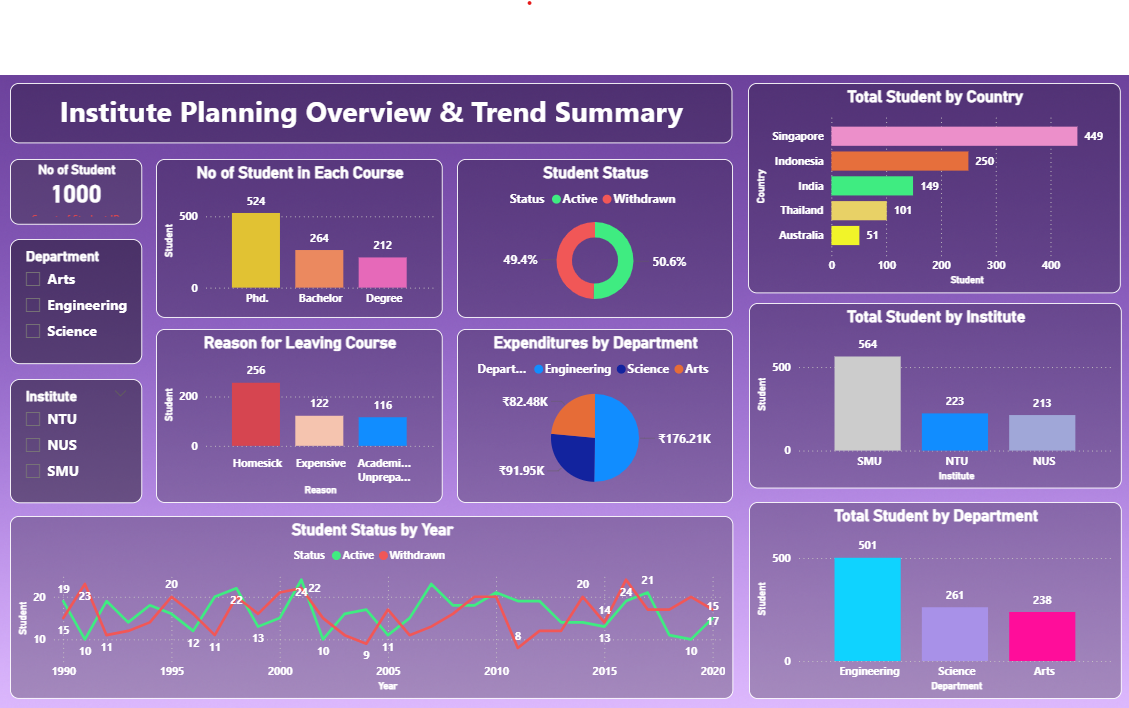

The page's visual inventory and layout, read from the dashboard file:
{"tool":"powerbi","page":{"name":"Page 1","canvas":[1280,720],"ordinal":0},"visuals":[{"type":"barChart","title":"Total Student by Country","fields":{"Category":["data.Country"],"Y":["CountNonNull(data.Student ID)"]},"box":[846.3,12.1,420.1,236.6],"z":0},{"type":"columnChart","title":"Total Student by Institute","fields":{"Category":["data.Institute"],"Y":["CountNonNull(data.Student ID)"]},"box":[846.9,260.8,420.2,209.3],"z":1},{"type":"columnChart","title":"Total Student by Department","fields":{"Category":["data.Department"],"Y":["CountNonNull(data.Student ID)"]},"box":[846.9,484.6,420.2,222.2],"z":2},{"type":"columnChart","title":"No of Student in Each Course","fields":{"Category":["data.Qualification"],"Y":["CountNonNull(data.Student ID)"]},"box":[179,98.6,323,179],"z":3},{"type":"donutChart","title":"Student Status","fields":{"Series":["data.Status"],"Y":["CountNonNull(data.Student ID)"]},"box":[518.7,98.6,310.9,179],"z":4},{"type":"lineChart","title":"Student Status by Year","fields":{"Category":["data.Year"],"Series":["data.Status"],"Y":["CountNonNull(data.Student ID)"]},"box":[14.5,500.7,814.7,206.1],"z":5},{"type":"pieChart","title":"Expenditures by Department","fields":{"Category":["data.Department"],"Y":["Sum(data.Expenditures)"]},"box":[518.7,289.7,310.9,195.6],"z":6},{"type":"columnChart","title":"Reason for Leaving Course","fields":{"Category":["data.Reason"],"Y":["CountNonNull(data.Student ID)"]},"box":[179,289.7,323,195.6],"z":8},{"type":"textbox","box":[15.2,12.1,814.4,68.2],"z":9},{"type":"slicer","fields":{"Values":["data.Department"]},"box":[15.2,188.1,148.6,141],"z":11},{"type":"slicer","fields":{"Values":["data.Institute"]},"box":[15.2,345.8,148.6,139.5],"z":12},{"type":"card","title":"No of Student","fields":{"Values":["CountNonNull(data.Student ID)"]},"box":[15.2,98.6,148.6,74.3],"z":13}]}

Visuals, with their boxes in screenshot pixels (x1, y1, x2, y2):
"Total Student by Country" barChart: [746, 73, 1124, 286]
"Total Student by Institute" columnChart: [746, 297, 1125, 486]
"Total Student by Department" columnChart: [746, 499, 1125, 699]
"No of Student in Each Course" columnChart: [144, 151, 435, 312]
"Student Status" donutChart: [450, 151, 731, 312]
"Student Status by Year" lineChart: [0, 513, 730, 699]
"Expenditures by Department" pieChart: [450, 323, 731, 499]
"Reason for Leaving Course" columnChart: [144, 323, 435, 499]
textbox: [0, 73, 731, 134]
slicer - data.Department: [0, 231, 130, 359]
slicer - data.Institute: [0, 374, 130, 499]
"No of Student" card: [0, 151, 130, 218]
